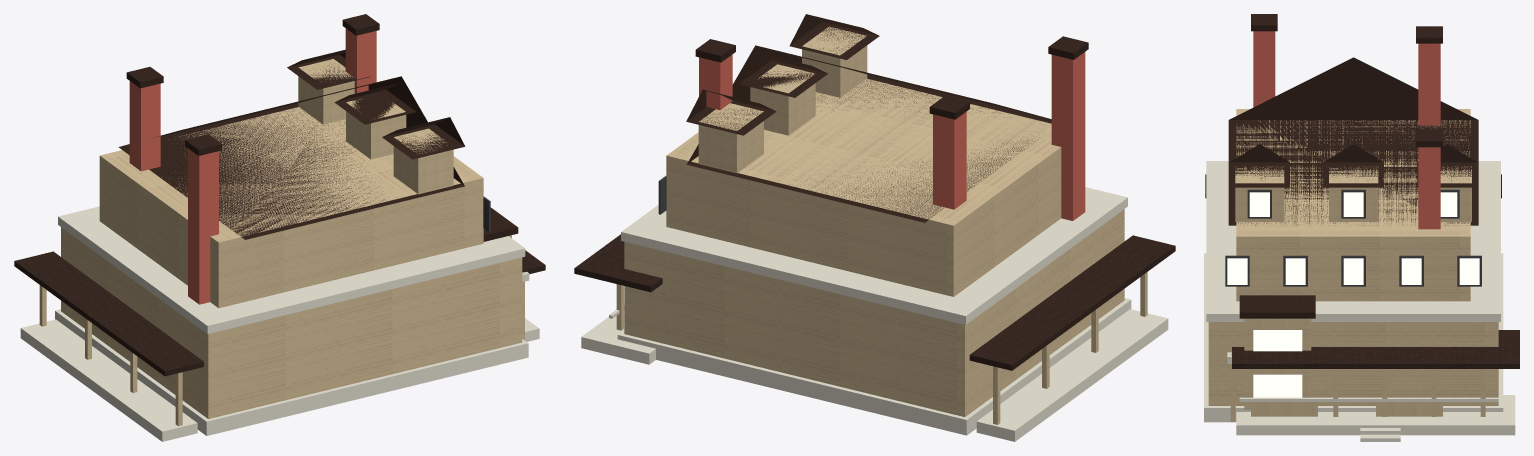
The model's file is colina.glb.
The picture shows the model from 3 angles, left to right: view 1: azimuth 30°, elevation 25°; view 2: azimuth 150°, elevation 25°; view 3: azimuth 270°, elevation 25°; orthographic projection. The views are drawn at different scales.
Visible parts, largest first — view 1: colina; view 2: colina; view 3: colina.
Part boxes in pixels (bbox=[...]): colina: bbox=[14, 14, 545, 441]; colina: bbox=[574, 14, 1175, 441]; colina: bbox=[1204, 14, 1519, 441].
Bounding box in the file's own units: 20.6 × 12.9 × 14.15.
7 materials, 3 textured.
